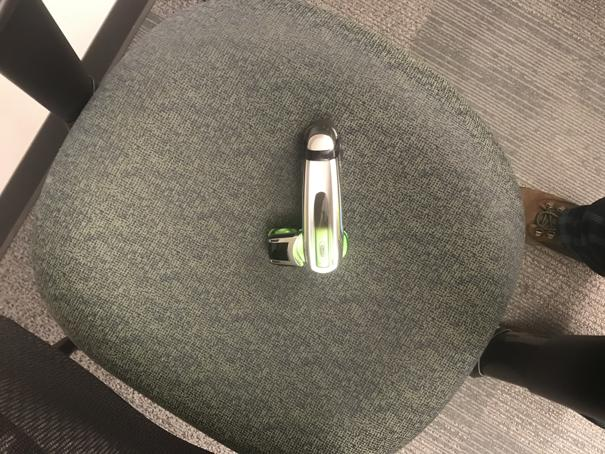Freewheel: (266, 119, 351, 275)
